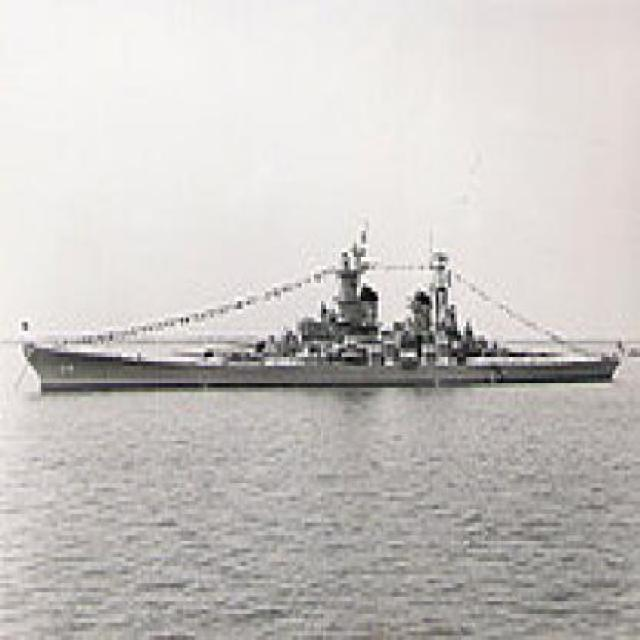warship2: (28, 236, 617, 407)
